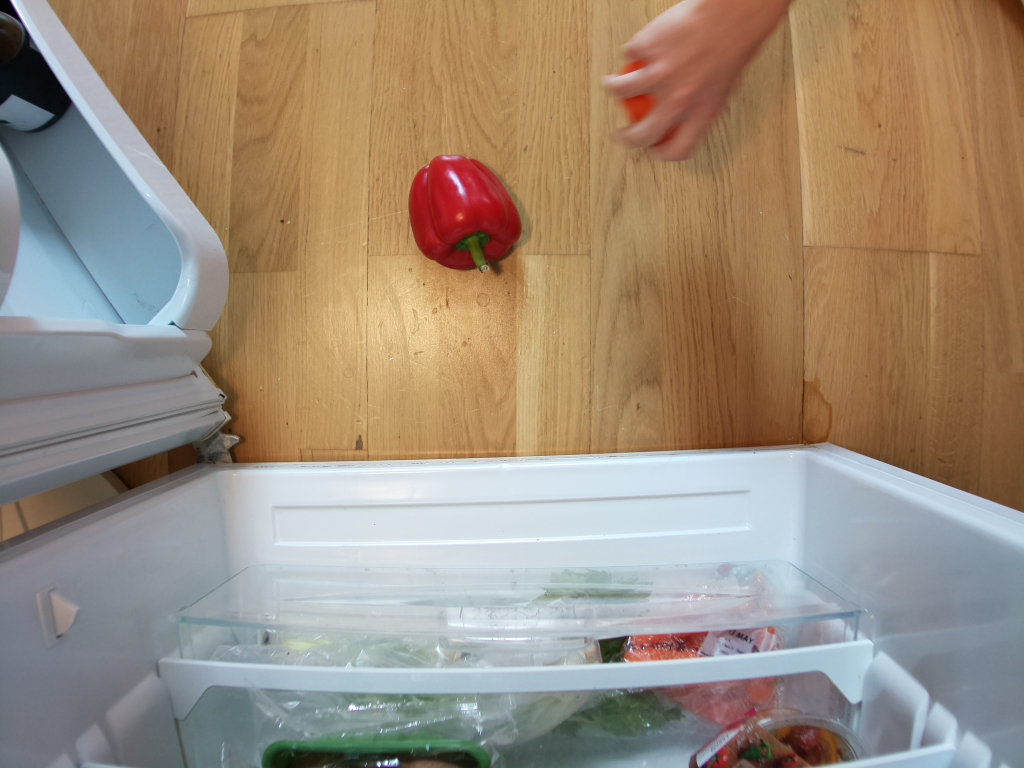pepper: (408, 152, 525, 278)
